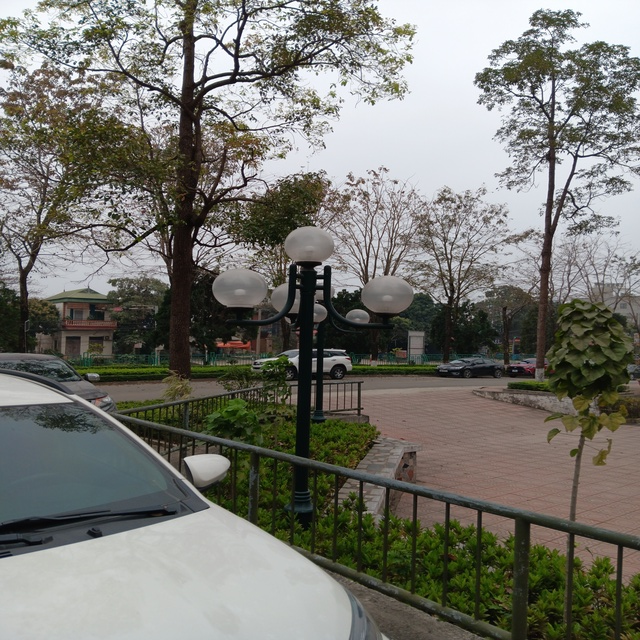cotden: (216, 225, 407, 503), (273, 274, 364, 435)
